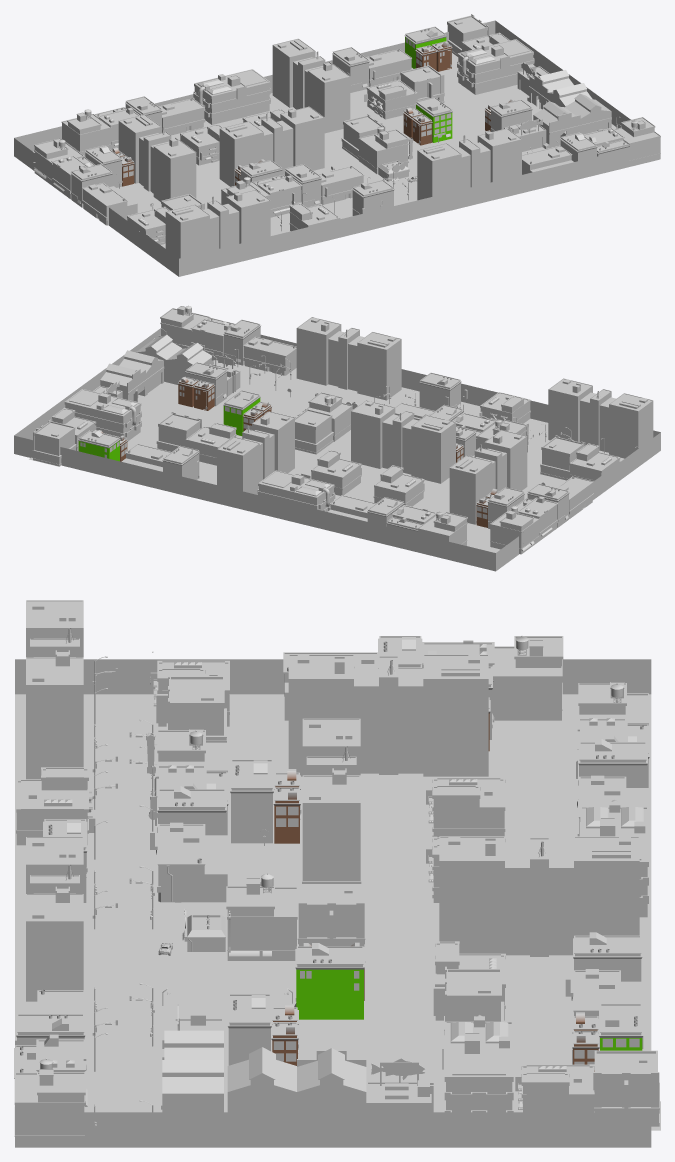
Rendered from Level_1_deneme_3.fbx.
3 renders of one model, top to bottom at view 1: azimuth 30°, elevation 25°; view 2: azimuth 150°, elevation 25°; view 3: azimuth 270°, elevation 25°, orthographic. The views are drawn at different scales.
Parts seen in each view (by area): view 1: Object_3; view 2: Object_3; view 3: Object_3.
Boxes of the visible parts, x1,y1,x2,y2 form: Object_3: (14,14,660,276); Object_3: (14,305,660,571); Object_3: (14,600,660,1147).
Bounding box in the file's own units: 28234 × 3197 × 16809.
